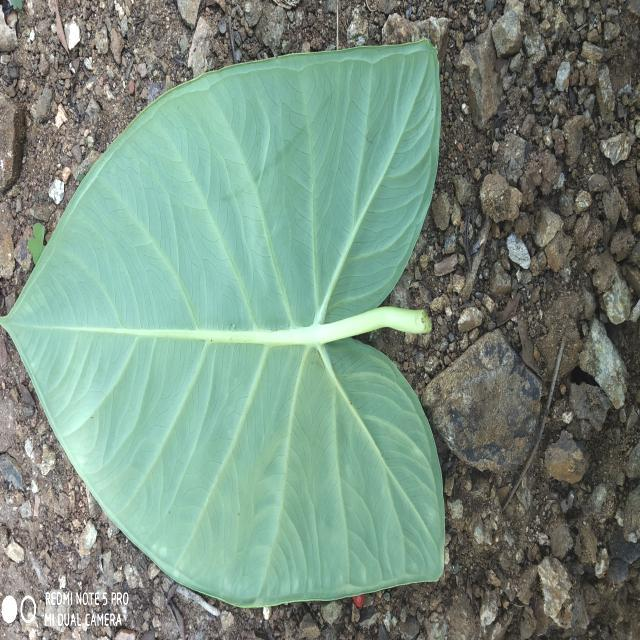leaf: (0, 37, 448, 609)
